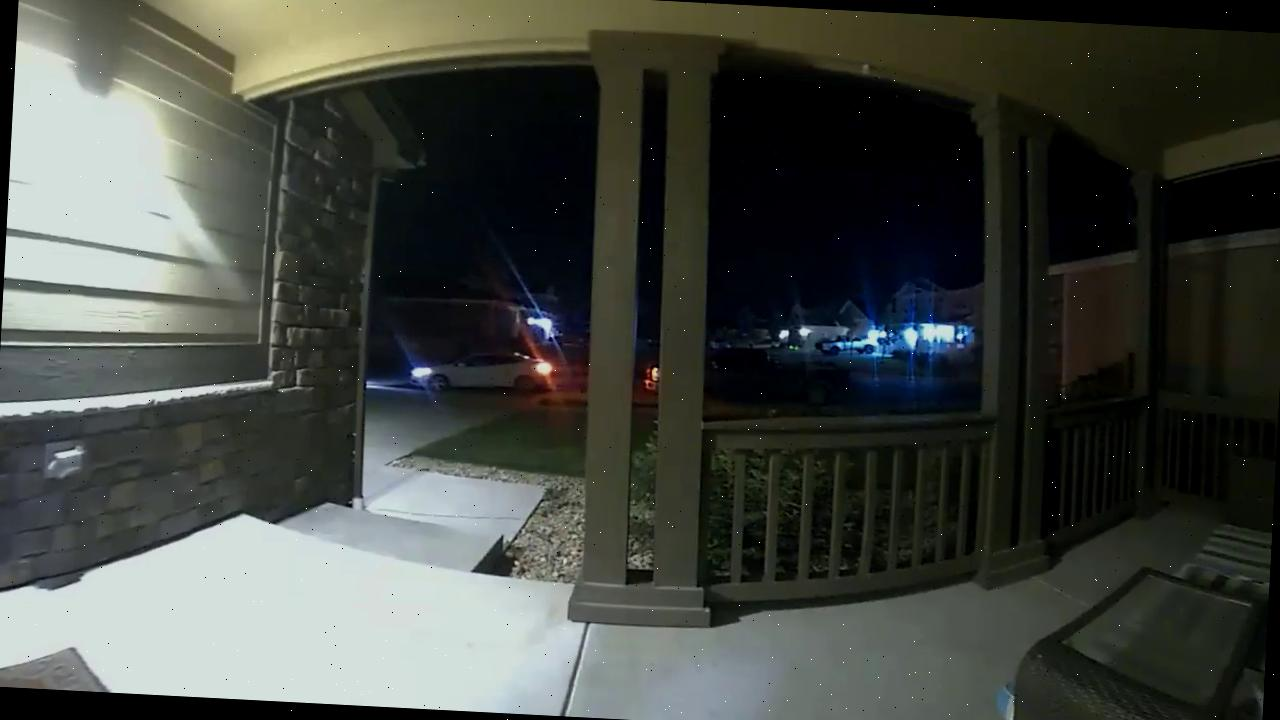suspicion: (636, 328, 856, 417), (394, 337, 566, 406), (814, 323, 878, 362)
